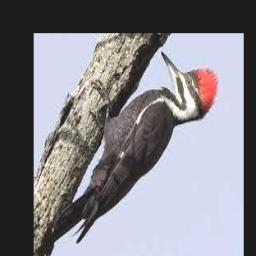Woodpecker: (35, 51, 218, 256)
